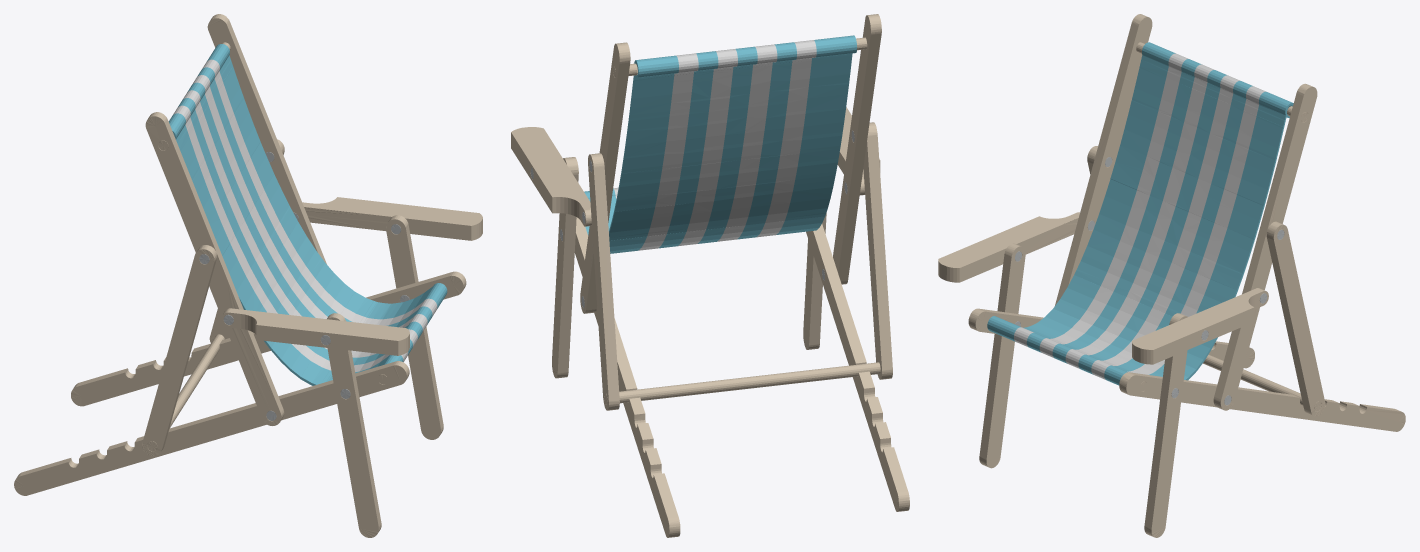
File: beach_chair_1.glb
3 views of the same model, side by side, from view 1: azimuth 30°, elevation 25°; view 2: azimuth 150°, elevation 25°; view 3: azimuth 270°, elevation 25° (orthographic). The views are drawn at different scales.
Parts seen in each view (by area): view 1: Mesh_Mesh_head_geo.001_lambert2SG.001; view 2: Mesh_Mesh_head_geo.001_lambert2SG.001; view 3: Mesh_Mesh_head_geo.001_lambert2SG.001.
Part boxes in pixels (box(x1,y1,x2,y2)): Mesh_Mesh_head_geo.001_lambert2SG.001: box(14, 14, 482, 537); Mesh_Mesh_head_geo.001_lambert2SG.001: box(511, 14, 909, 537); Mesh_Mesh_head_geo.001_lambert2SG.001: box(938, 14, 1405, 537).
Bounding box in the file's own units: 4.37 × 4 × 4.37.
